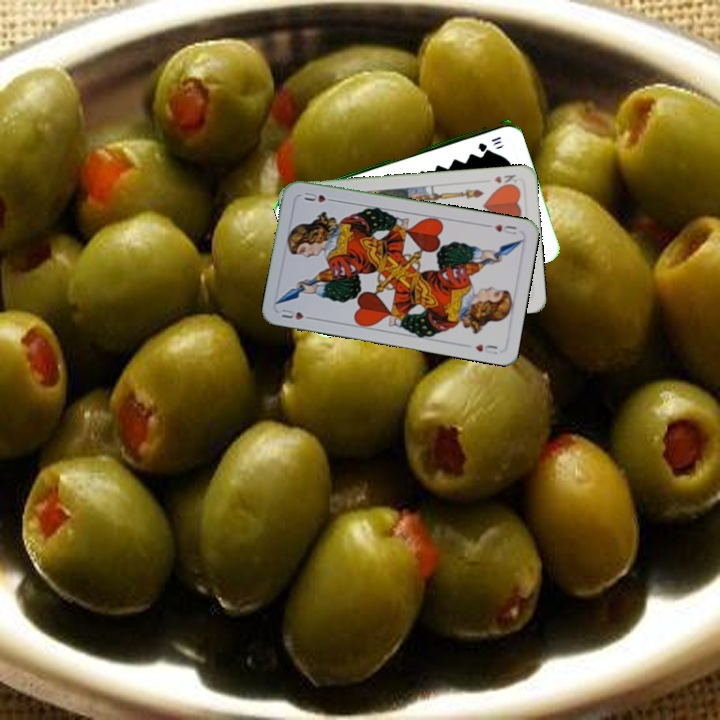G10: (474, 132, 504, 153)
HK: (490, 171, 520, 190)
HU: (277, 305, 316, 322), (490, 220, 519, 237)
